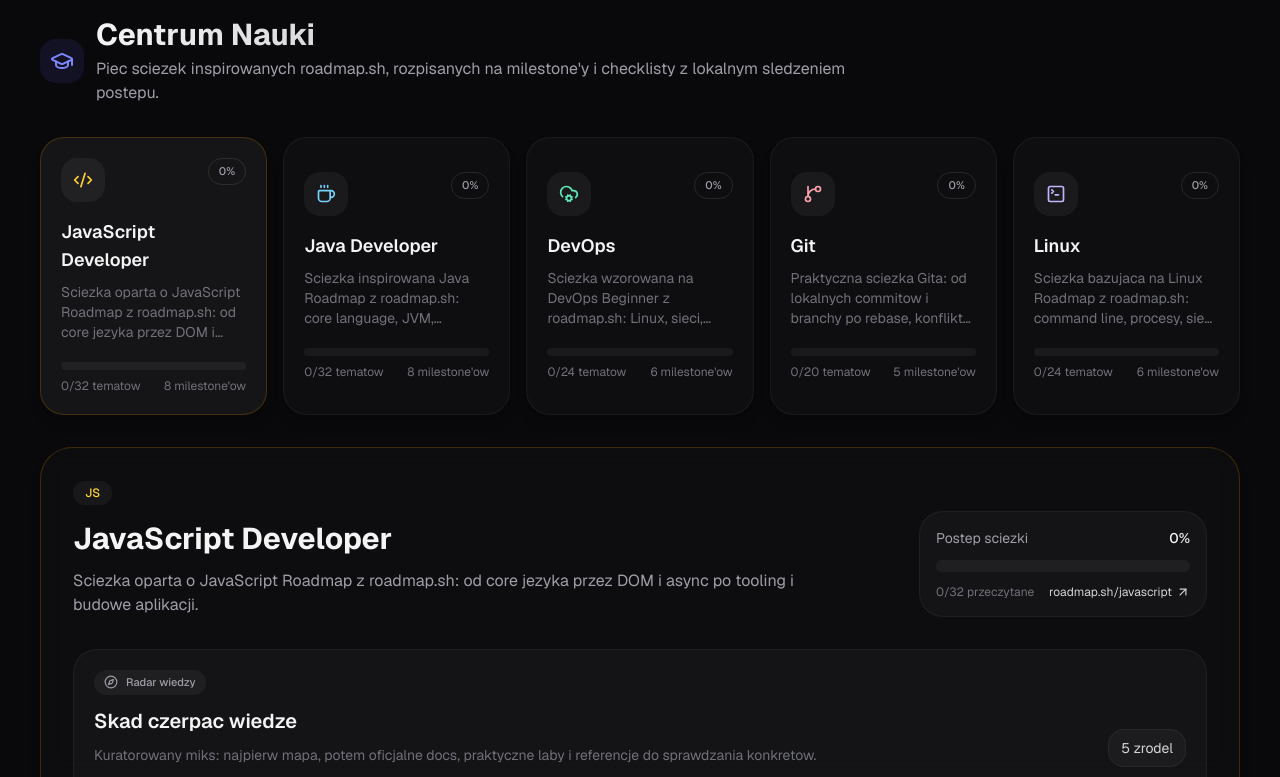
Test: LearningRoadmapBoard › switches to the Git learning track
Click the button "Git Praktyczna sciezka Gita" at (883, 276), box [770,137,997,415]
(page scrolled)
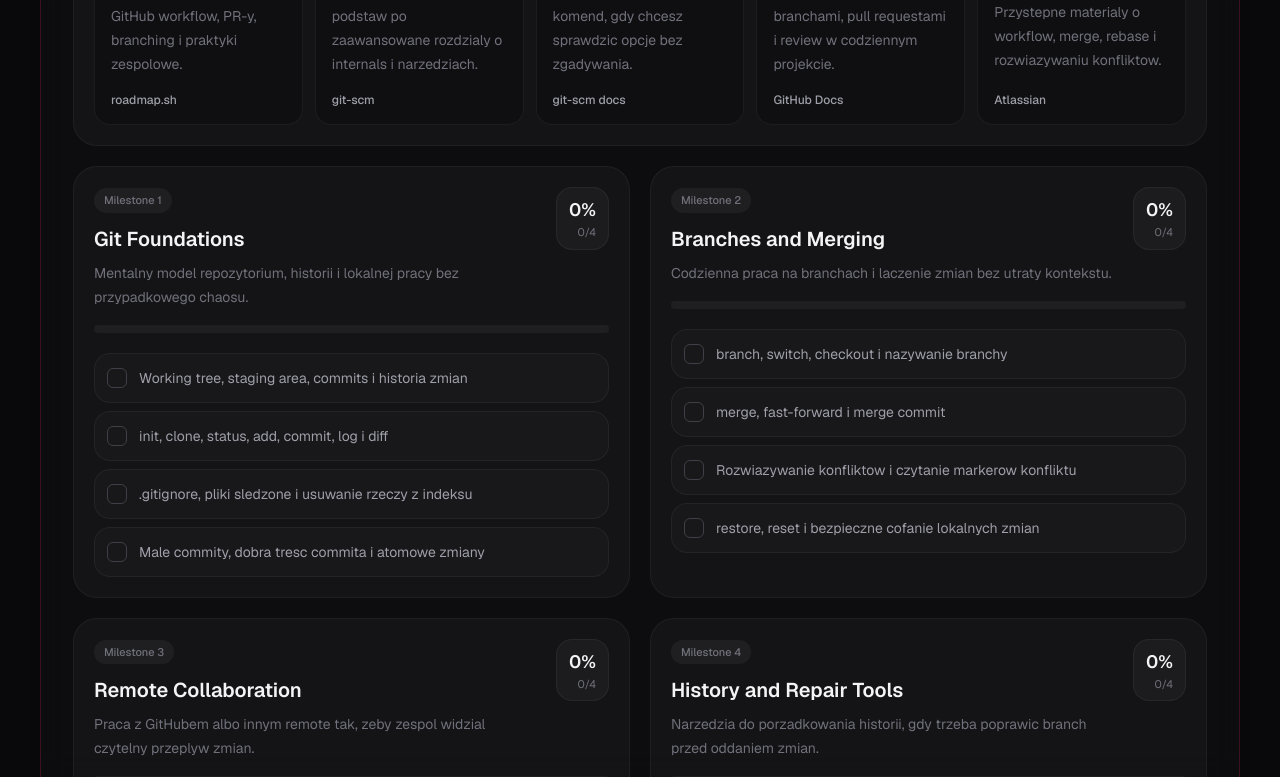
Result: the heading "Git Foundations" is shown at [94,226,245,252]
Result: the button "Working tree, staging area, commits i historia zmian" is shown at [94,352,609,402]
